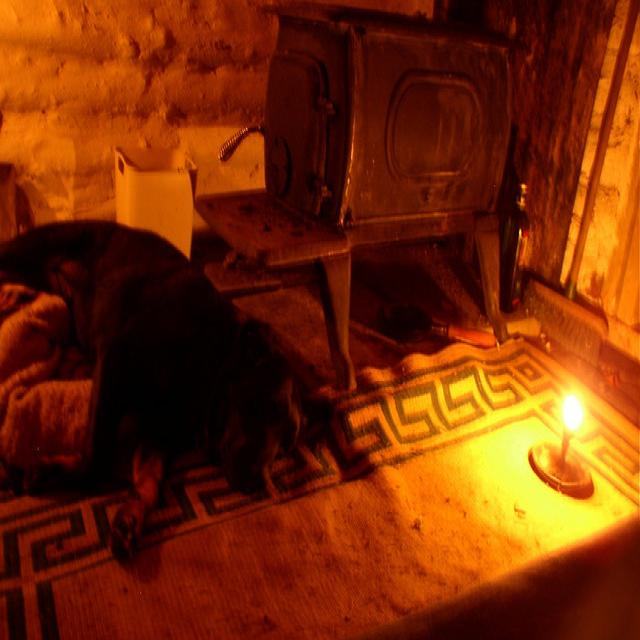Dog: (13, 195, 327, 566)
